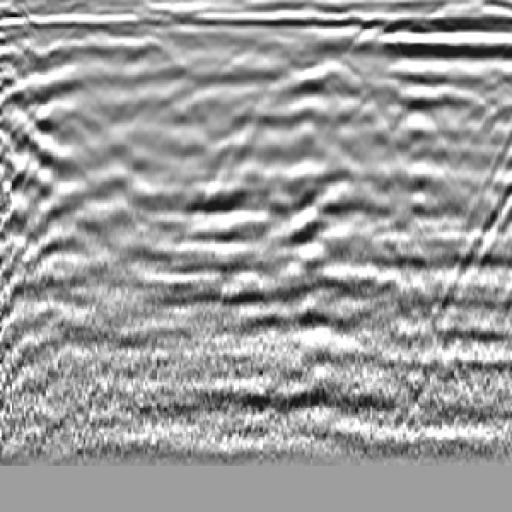metalic: (193, 43, 443, 303)
